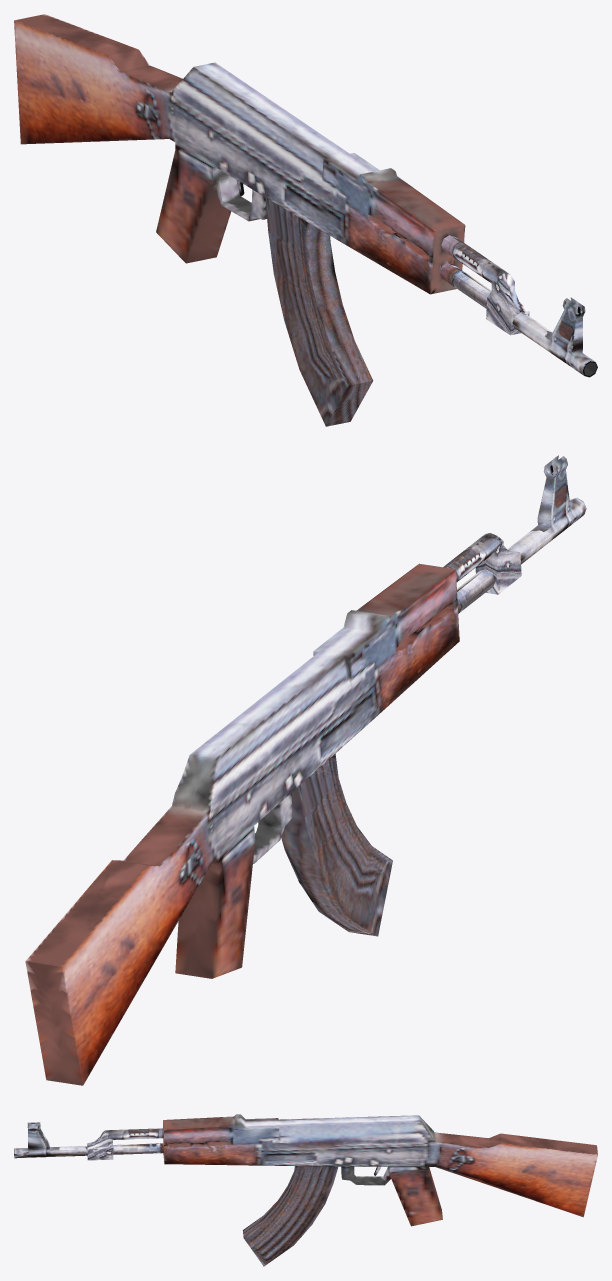
3 renders of one model, top to bottom at view 1: azimuth 30°, elevation 25°; view 2: azimuth 150°, elevation 25°; view 3: azimuth 270°, elevation 25°, orthographic. The views are drawn at different scales.
Parts seen in each view (by area): view 1: AK-47; view 2: AK-47; view 3: AK-47.
Boxes of the visible parts, x1=… form: AK-47: x1=14, y1=14, x2=597, y2=426; AK-47: x1=25, y1=455, x2=586, y2=1085; AK-47: x1=14, y1=1114, x2=597, y2=1266.
Bounding box in the file's own units: 0.0776 × 0.2675 × 0.9466.
1 material, 1 textured.
